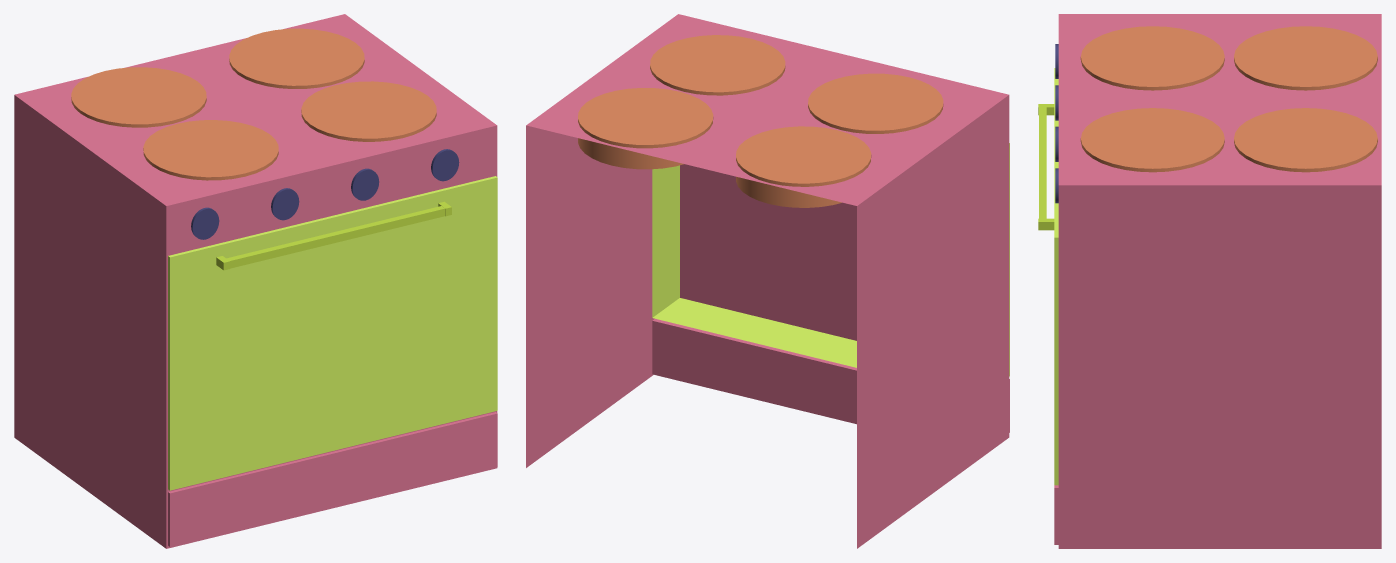
File: 4 oven.fbx
3 views of the same model, side by side, from view 1: azimuth 30°, elevation 25°; view 2: azimuth 150°, elevation 25°; view 3: azimuth 270°, elevation 25° (orthographic). The views are drawn at different scales.
Parts seen in each view (by area): view 1: 4 oven; view 2: 4 oven; view 3: 4 oven.
Boxes of the visible parts, x1,y1,x2,y2 form: 4 oven: [14, 14, 497, 548]; 4 oven: [526, 14, 1009, 548]; 4 oven: [1038, 14, 1381, 548].
Size of the model in its own units: 49 by 48.98 by 41.48.
